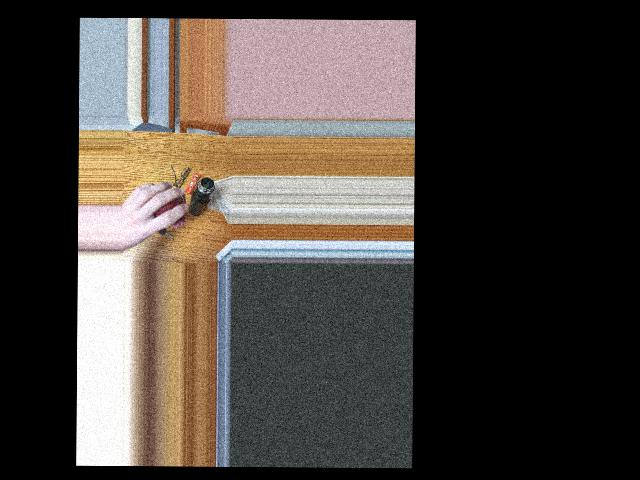onion: (147, 187, 178, 227)
